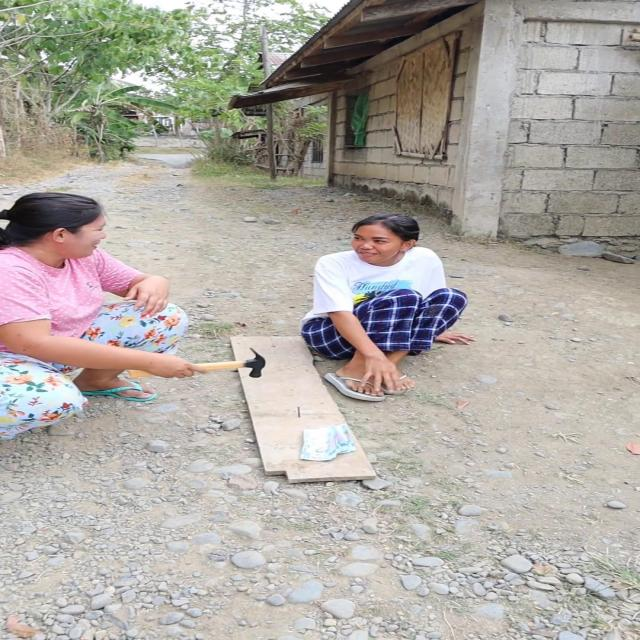hammer: (126, 345, 268, 380)
